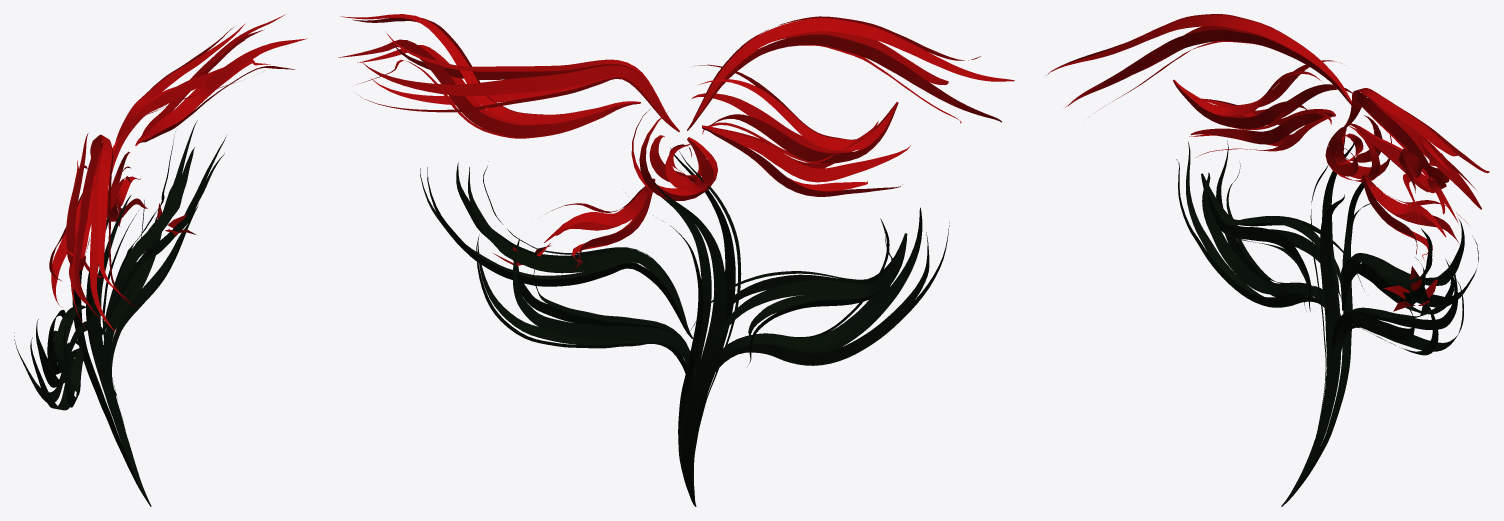
3 renders of one model, left to right at view 1: azimuth 30°, elevation 25°; view 2: azimuth 150°, elevation 25°; view 3: azimuth 270°, elevation 25°, orthographic. The views are drawn at different scales.
Visible parts, largest first — view 1: brush_Petal_g0_b0; view 2: brush_Petal_g0_b0; view 3: brush_Petal_g0_b0.
Part boxes in pixels (<box>): brush_Petal_g0_b0: <box>14,14,306,506</box>; brush_Petal_g0_b0: <box>338,14,1014,506</box>; brush_Petal_g0_b0: <box>1046,14,1489,506</box>.
Size of the model in its own units: 0.6368 by 0.6367 by 0.5653.
